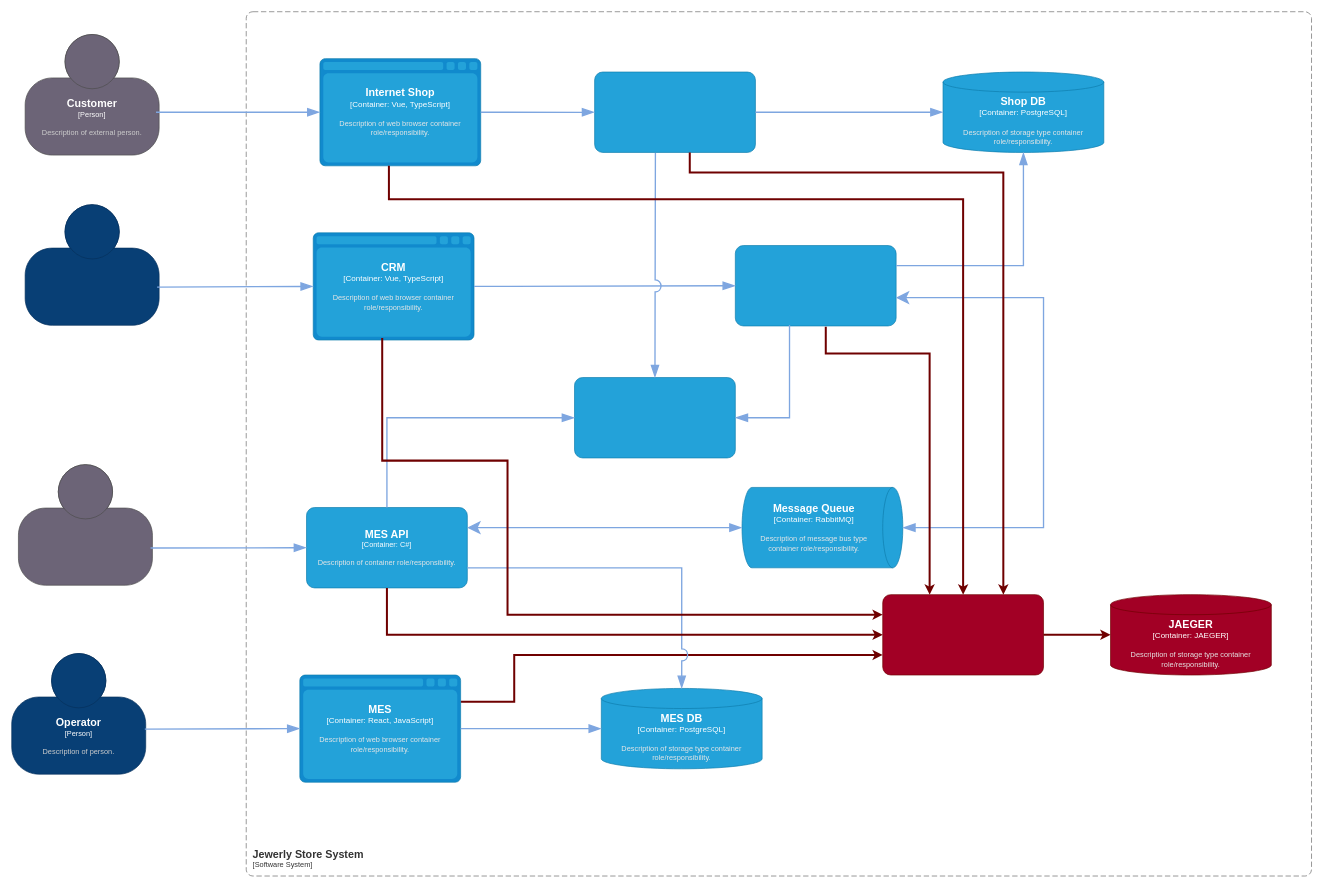
This 1323x888 diagram has some shape labels left out. The centre of each missing label's shape, as x and y in pixels:
"3d files storage [Container: S3] Description of container role/responsibility." belongs at point (654, 417).
"API User [Person] Description of external person." belongs at point (85, 524).
"Collector [Container: SpringBoot] Description of container role/responsibility." belongs at point (963, 634).
"CRM API [Container: SpringBoot] Description of container role/responsibility." belongs at point (815, 285).
"Seller [Person] Description of person." belongs at point (91, 264).
"Shop API [Container: SpringBoot] Description of container role/responsibility." belongs at point (674, 111).
